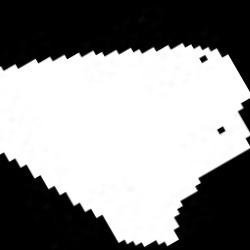spot: (2, 46, 248, 245)
